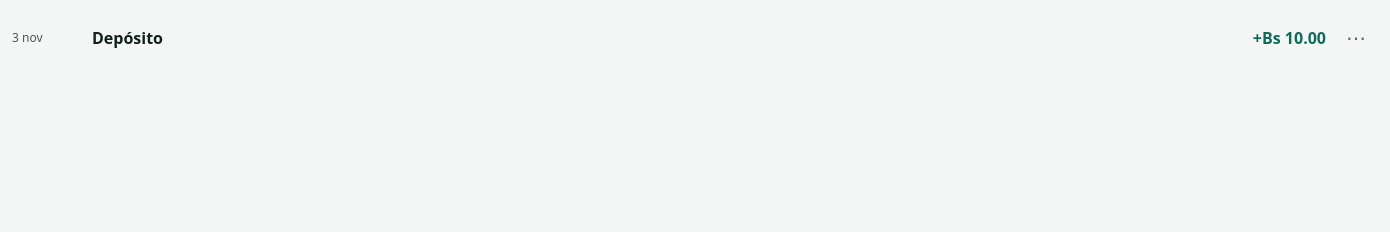
Scenario: «Cambiar fecha y hora» solo en movimientos activos que no son ajustes › aparece en un depósito activo
The width and height of the screenshot is (1390, 232).
Click the button named "Acciones de ".
click(1356, 38)  # box [1334, 16, 1378, 60]
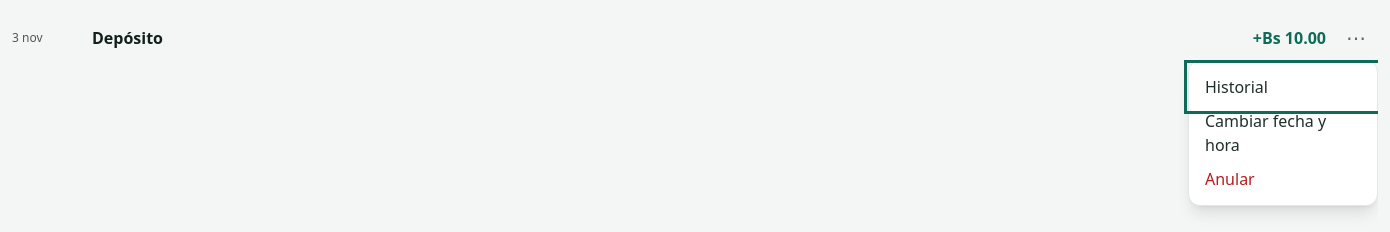
Result: the menu item "Cambiar fecha y hora" is shown at [1189, 109, 1377, 157]
